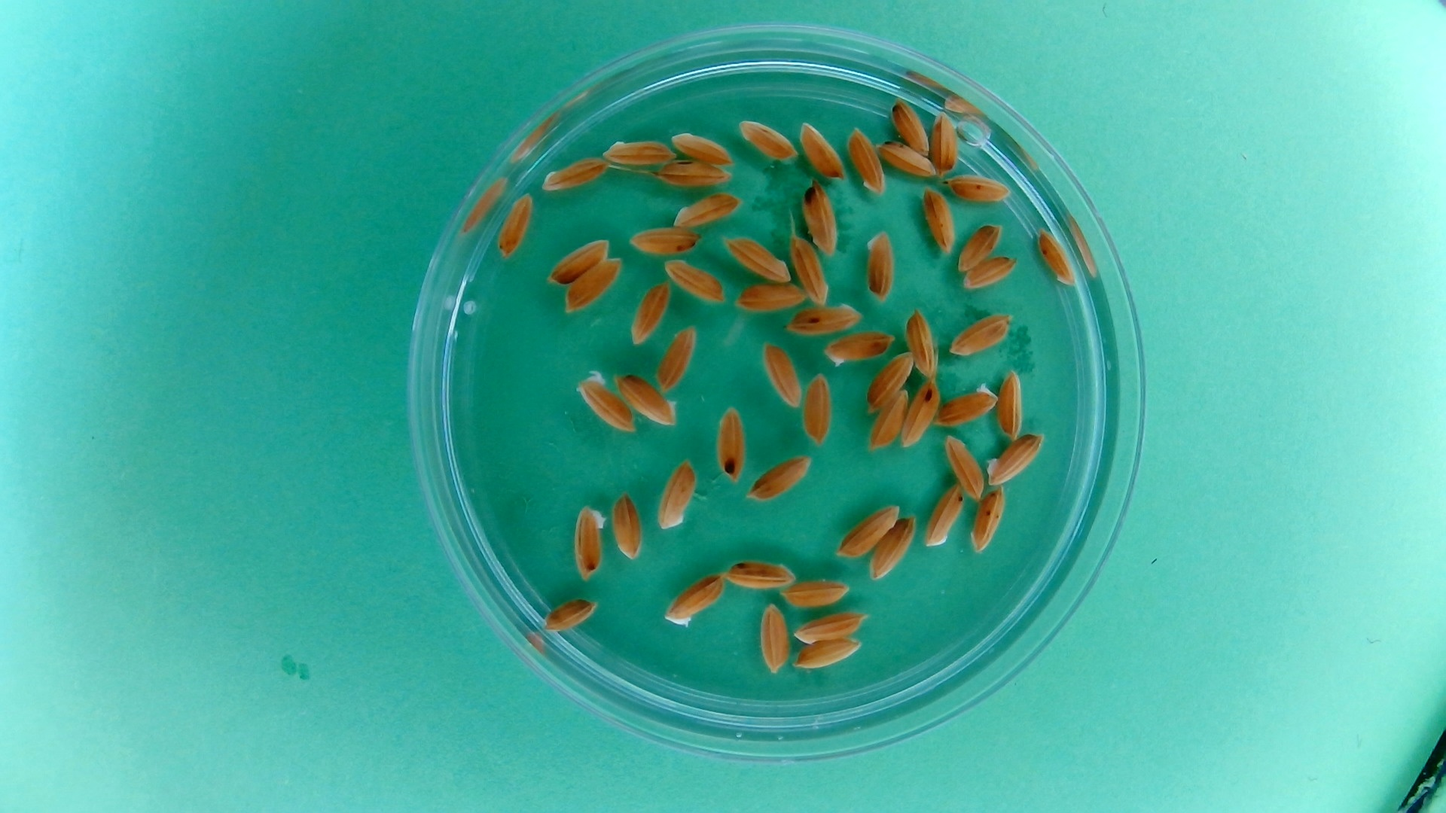no: (831, 501, 901, 560), (612, 370, 680, 430), (662, 570, 728, 629), (563, 256, 624, 318), (721, 233, 793, 285), (744, 452, 813, 506), (984, 430, 1047, 488), (543, 233, 611, 286), (786, 230, 831, 309), (868, 511, 919, 580), (654, 455, 699, 532), (795, 117, 847, 181), (863, 349, 914, 414), (663, 256, 728, 307), (947, 309, 1014, 358), (654, 323, 699, 395), (932, 380, 999, 428), (800, 179, 841, 257), (758, 339, 803, 410), (898, 376, 941, 450), (844, 123, 886, 198), (627, 278, 672, 347), (737, 115, 800, 164), (943, 431, 987, 501), (711, 402, 749, 483), (921, 481, 965, 550), (569, 501, 606, 583), (865, 385, 910, 452), (668, 190, 744, 229), (494, 191, 535, 263), (538, 155, 610, 196), (822, 330, 897, 369), (1033, 224, 1078, 289), (791, 607, 870, 644), (799, 370, 836, 448), (784, 302, 864, 338), (903, 305, 940, 381), (721, 556, 799, 592), (666, 128, 737, 167), (969, 485, 1008, 556), (624, 223, 705, 257), (954, 219, 1004, 274), (600, 134, 677, 169), (862, 227, 897, 304), (609, 489, 645, 562), (755, 601, 791, 674), (920, 183, 957, 254), (889, 95, 931, 157), (792, 637, 865, 672), (653, 159, 735, 190), (874, 139, 938, 178), (942, 171, 1013, 206), (779, 577, 851, 611), (960, 251, 1020, 291), (929, 109, 962, 177), (542, 596, 599, 632), (997, 367, 1025, 440)
yes: (574, 369, 637, 435)
